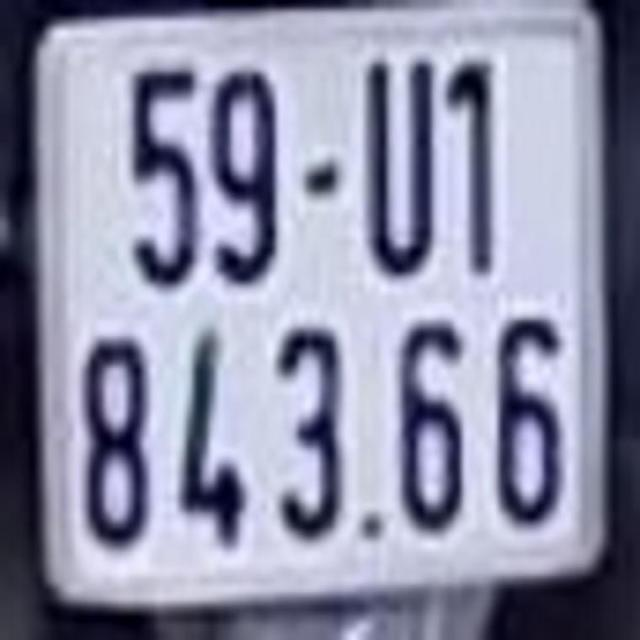1: (448, 56, 499, 276)
3: (272, 321, 352, 538)
4: (183, 328, 248, 554)
5: (131, 62, 197, 286)
6: (496, 304, 562, 528), (397, 320, 462, 528)
8: (81, 334, 161, 548)
9: (214, 66, 278, 279)
U: (362, 48, 442, 268)
